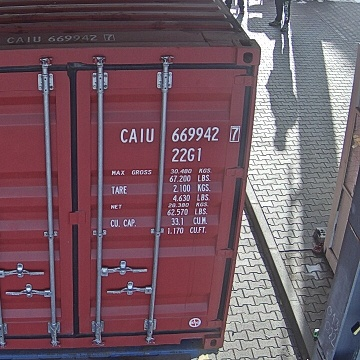serial_id: (121, 127, 239, 142)
